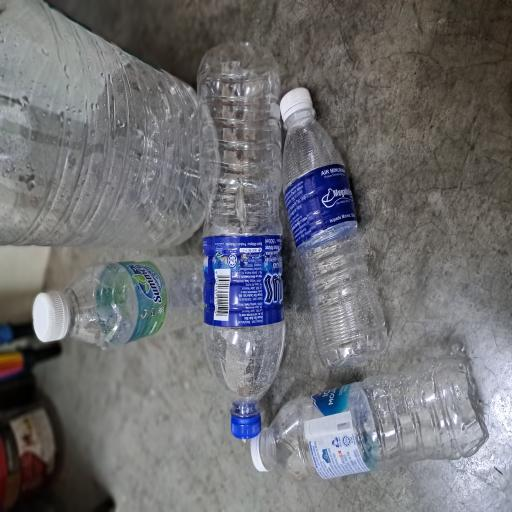plastic bottle: (200, 2, 384, 296), (90, 270, 356, 379), (116, 382, 296, 512), (17, 357, 121, 512), (125, 94, 195, 270)
plastic bottle cap: (128, 38, 164, 94), (292, 368, 320, 423), (56, 304, 77, 350), (30, 330, 59, 356)
